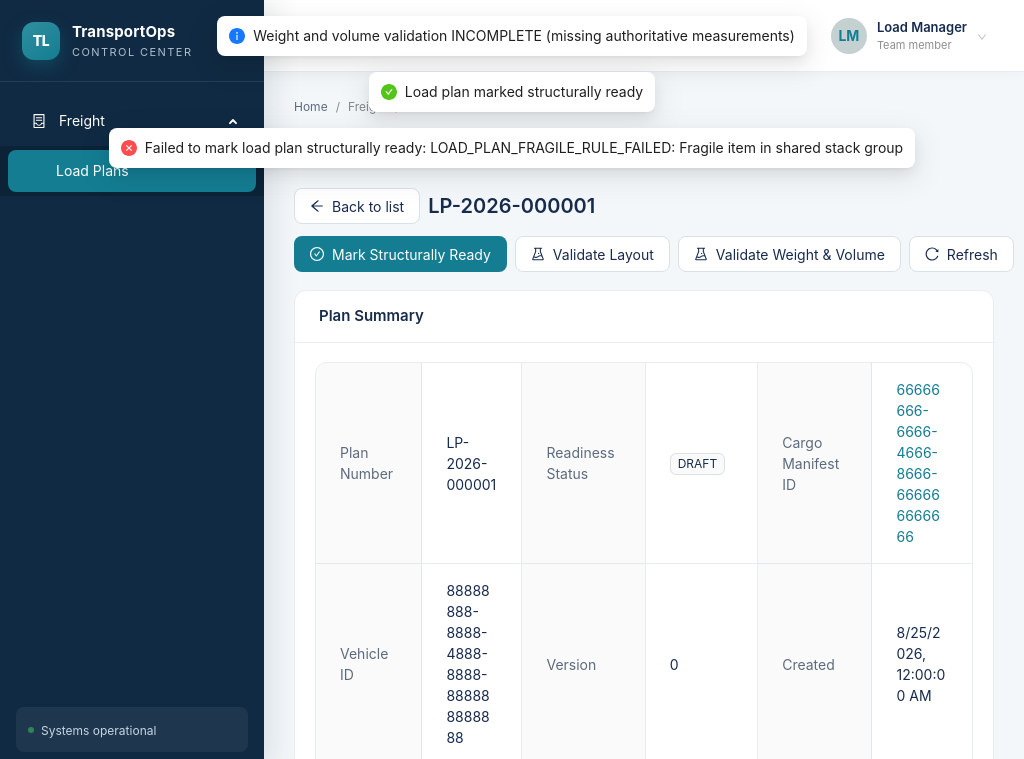
it: Load planning pages › displays error message when mark ready encounters 409 stale version conflict
The image size is (1024, 759).
Expected: the heading "LP-2026-000001" is shown, [428, 192, 595, 220]
Click the button "Mark Structurally Ready": (400, 254) [294, 236, 507, 272]
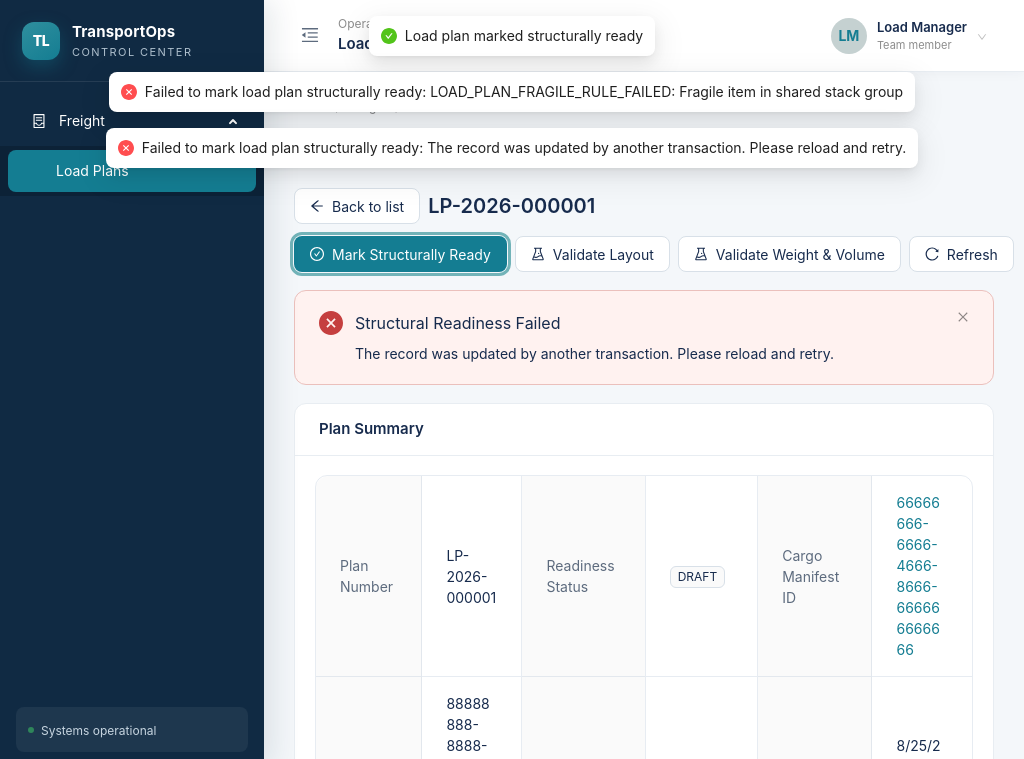
Expected: the text "The record was updated by another transaction" is shown, [355, 345, 834, 362]
